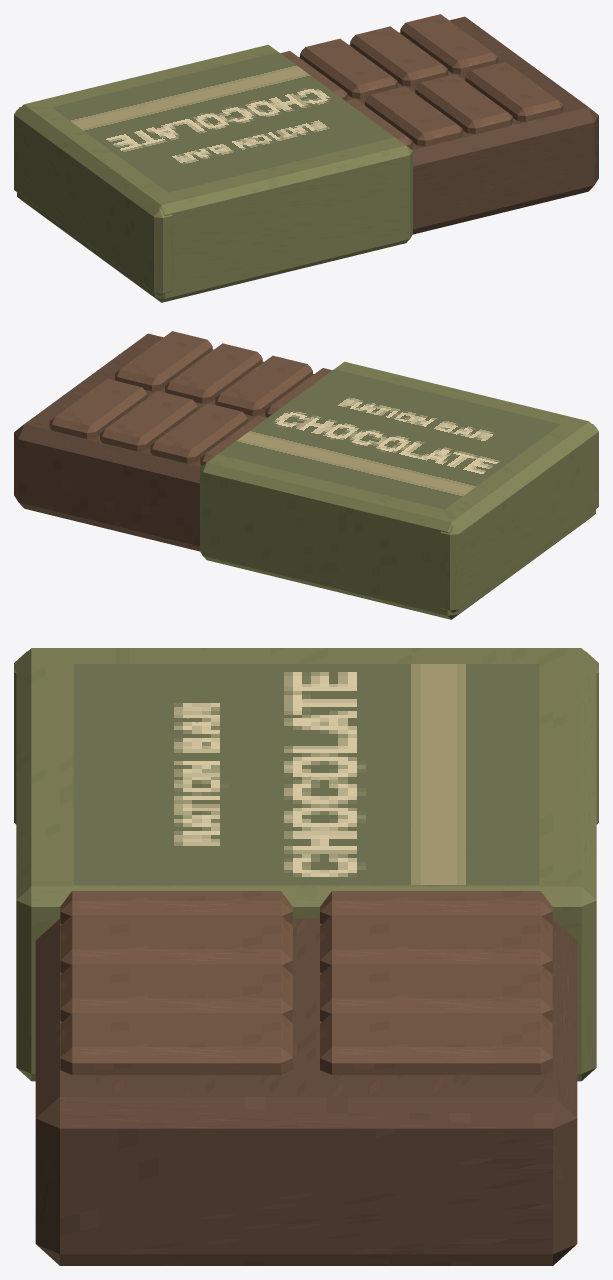
The model's file is chocolate_military.glb.
3 views of the same model, one above another, from view 1: azimuth 30°, elevation 25°; view 2: azimuth 150°, elevation 25°; view 3: azimuth 270°, elevation 25° (orthographic). The views are drawn at different scales.
Visible parts, largest first — view 1: block_paper wrapped half, block_printed chocolate wrapper, block_molded chocolate segment (×8), block_solid chocolate bar, block_crimped paper end; view 2: block_paper wrapped half, block_printed chocolate wrapper, block_molded chocolate segment (×8), block_solid chocolate bar, block_crimped paper end; view 3: block_solid chocolate bar, block_printed chocolate wrapper, block_molded chocolate segment (×8), block_paper wrapped half, block_crimped paper end.
Boxes of the visible parts, x1,y1,x2,y2 form: block_paper wrapped half: [17, 44, 412, 302]; block_printed chocolate wrapper: [52, 52, 394, 192]; block_molded chocolate segment (×8): [280, 14, 563, 148]; block_solid chocolate bar: [299, 16, 598, 234]; block_crimped paper end: [14, 107, 172, 295]; block_paper wrapped half: [200, 361, 595, 619]; block_printed chocolate wrapper: [218, 369, 560, 509]; block_molded chocolate segment (×8): [49, 331, 332, 465]; block_solid chocolate bar: [14, 333, 313, 551]; block_crimped paper end: [440, 424, 598, 612]; block_solid chocolate bar: [35, 918, 577, 1265]; block_printed chocolate wrapper: [73, 664, 539, 884]; block_molded chocolate segment (×8): [60, 891, 552, 1074]; block_paper wrapped half: [16, 648, 596, 1081]; block_crimped paper end: [14, 651, 598, 824].
Bounding box in the file's own units: 0.169 × 0.035 × 0.0947.
1 material, 1 textured.
